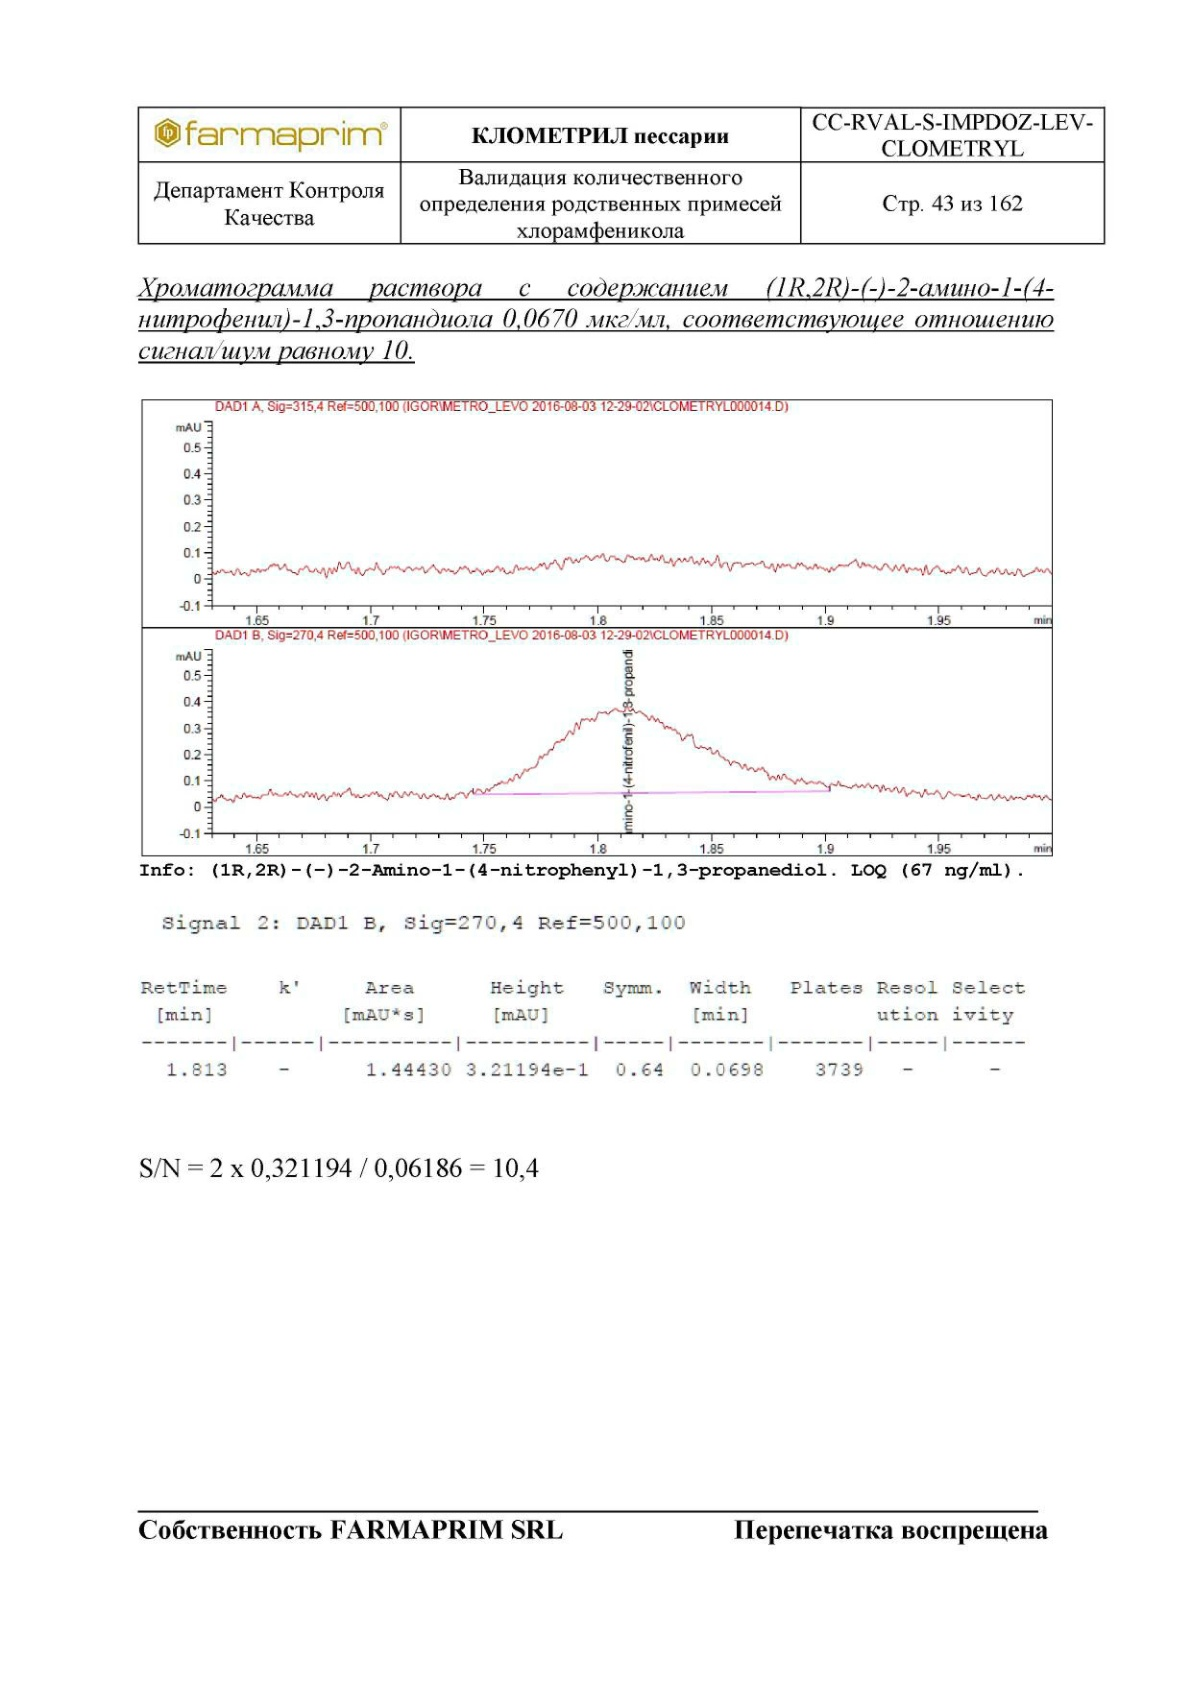full_lined: (135, 104, 1106, 248)
partial_lined: (135, 972, 1031, 1091)
